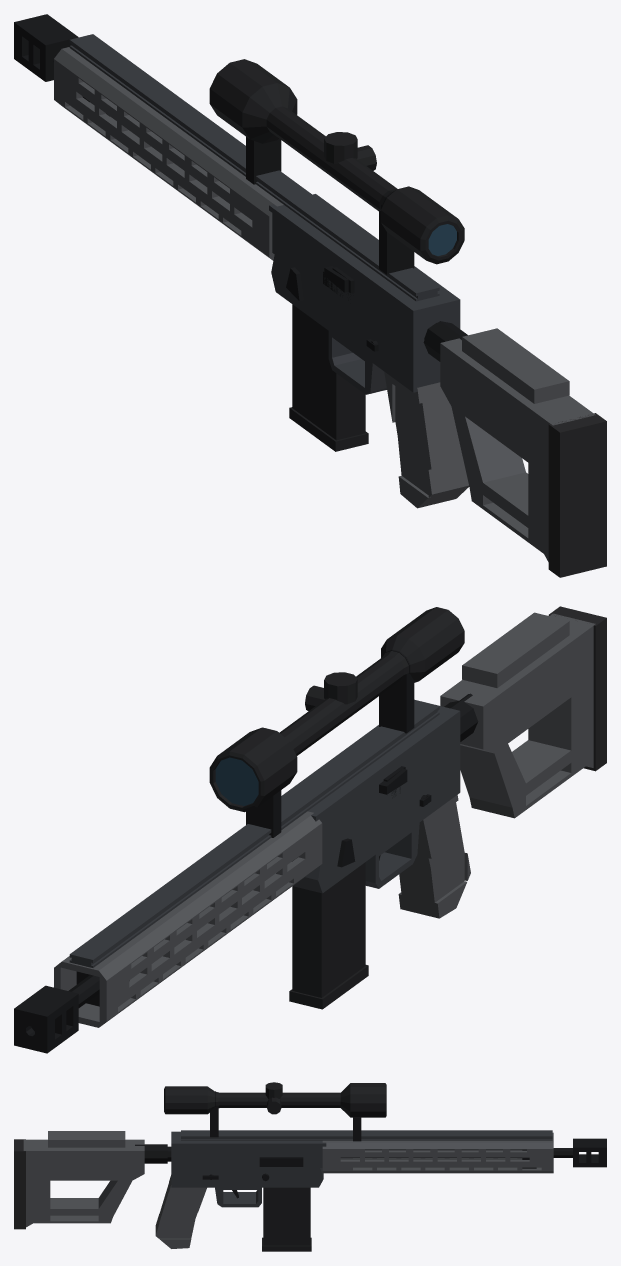
File: SemiAuto.fbx
3 renders of one model, top to bottom at view 1: azimuth 30°, elevation 25°; view 2: azimuth 150°, elevation 25°; view 3: azimuth 270°, elevation 25°, orthographic. The views are drawn at different scales.
Visible parts, largest first — view 1: Upper, Stock, Handguard, Scope, ButtPad, Lower, Grip, Mag, CheekRiser, Barrel, ScopeRings, BufferTube; view 2: Stock, Upper, Handguard, Scope, Mag, Lower, Grip, Barrel, CheekRiser, ScopeRings, ButtPad, ScopeLensFront (+1 smaller); view 3: Handguard, Stock, Upper, Scope, Lower, Mag, Grip, Barrel, CheekRiser, ButtPad, BufferTube, ScopeRings (+1 smaller).
Part boxes in pixels (x1,y1,x2,y2): Upper: [69, 34, 460, 355]; Stock: [440, 338, 595, 561]; Handguard: [54, 47, 283, 260]; Scope: [209, 59, 464, 264]; ButtPad: [548, 413, 606, 577]; Lower: [271, 249, 440, 394]; Grip: [384, 372, 469, 508]; Mag: [289, 304, 368, 451]; CheekRiser: [462, 328, 569, 403]; Barrel: [14, 14, 109, 116]; ScopeRings: [246, 137, 414, 274]; BufferTube: [423, 321, 467, 361]; Stock: [440, 613, 595, 818]; Upper: [69, 699, 460, 967]; Handguard: [54, 811, 322, 1027]; Scope: [209, 607, 464, 812]; Mag: [289, 862, 368, 1009]; Lower: [293, 750, 460, 893]; Grip: [398, 795, 470, 918]; Barrel: [14, 971, 129, 1053]; CheekRiser: [462, 612, 569, 687]; ScopeRings: [246, 649, 414, 837]; ButtPad: [548, 606, 606, 771]; ScopeLensFront: [215, 757, 258, 805]; Handguard: [322, 1132, 553, 1173]; Stock: [23, 1139, 144, 1227]; Upper: [171, 1130, 552, 1167]; Scope: [164, 1082, 386, 1117]; Lower: [171, 1164, 323, 1207]; Mag: [262, 1187, 311, 1251]; Grip: [155, 1175, 206, 1248]; Barrel: [341, 1138, 606, 1168]; CheekRiser: [48, 1131, 125, 1147]; ButtPad: [14, 1139, 25, 1229]; BufferTube: [135, 1144, 171, 1163]; ScopeRings: [210, 1091, 361, 1141].
Bounding box in the file's own units: 31 × 148 × 490.
